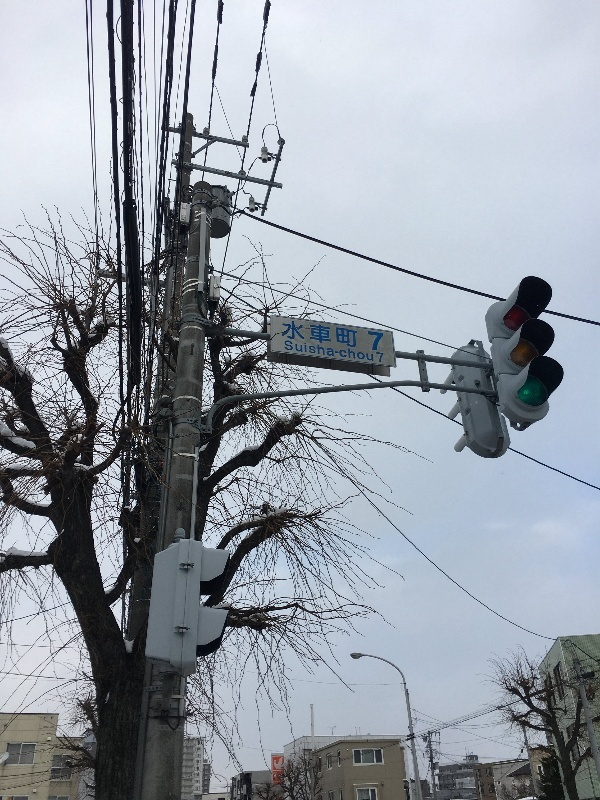text: (289, 320, 304, 348), (305, 320, 320, 348), (321, 320, 336, 348), (337, 320, 352, 348), (289, 340, 304, 362), (305, 340, 320, 362), (321, 340, 336, 362), (337, 340, 352, 362), (353, 340, 368, 362), (369, 331, 383, 351), (283, 320, 288, 348), (353, 320, 358, 348), (369, 340, 374, 362), (376, 352, 384, 362), (285, 340, 288, 362)
